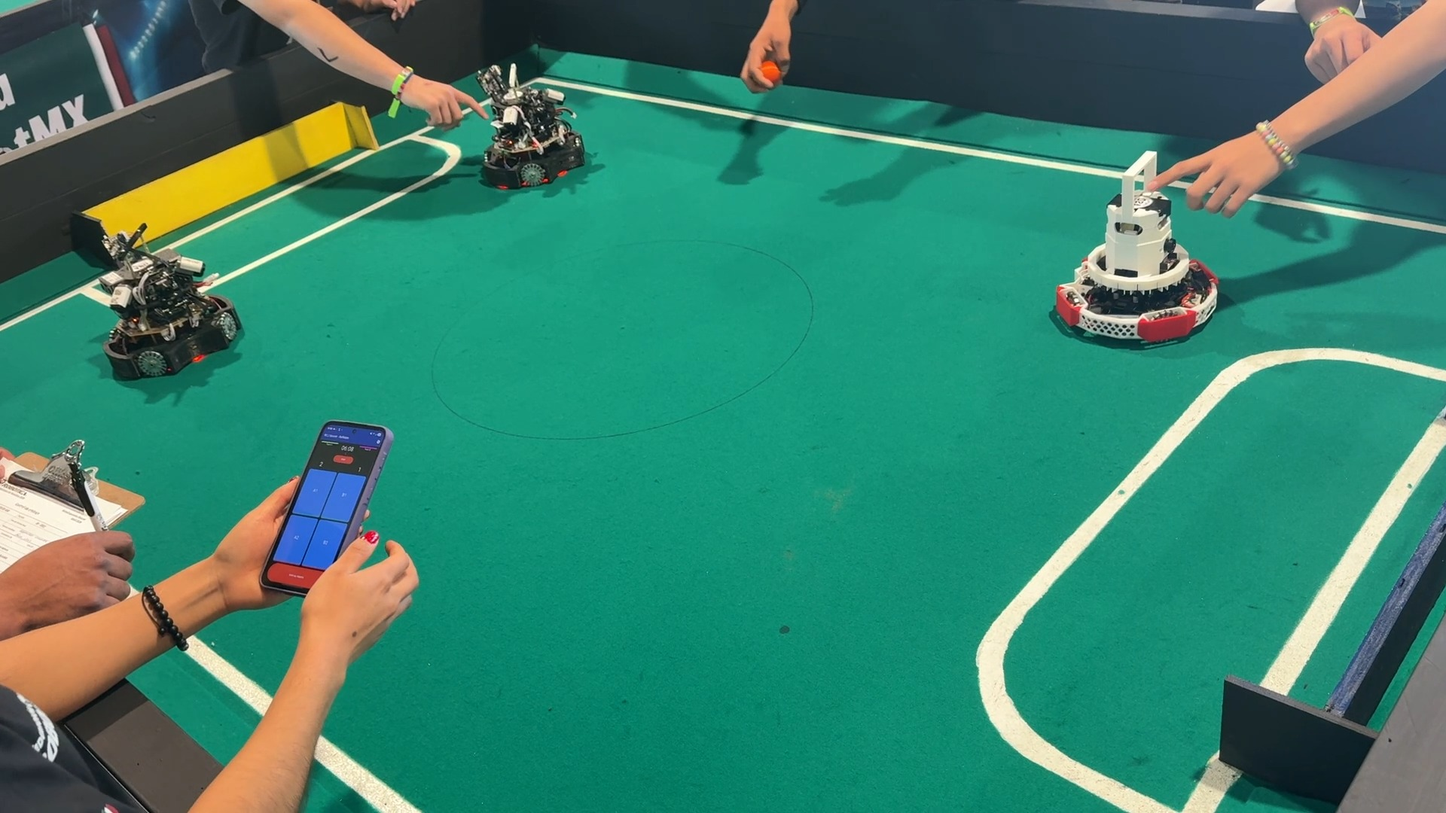Robot: (1046, 141, 1231, 368), (75, 213, 260, 402), (454, 35, 606, 205)
